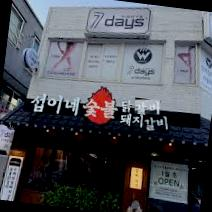galbi: (144, 114, 171, 134), (134, 98, 162, 116)
